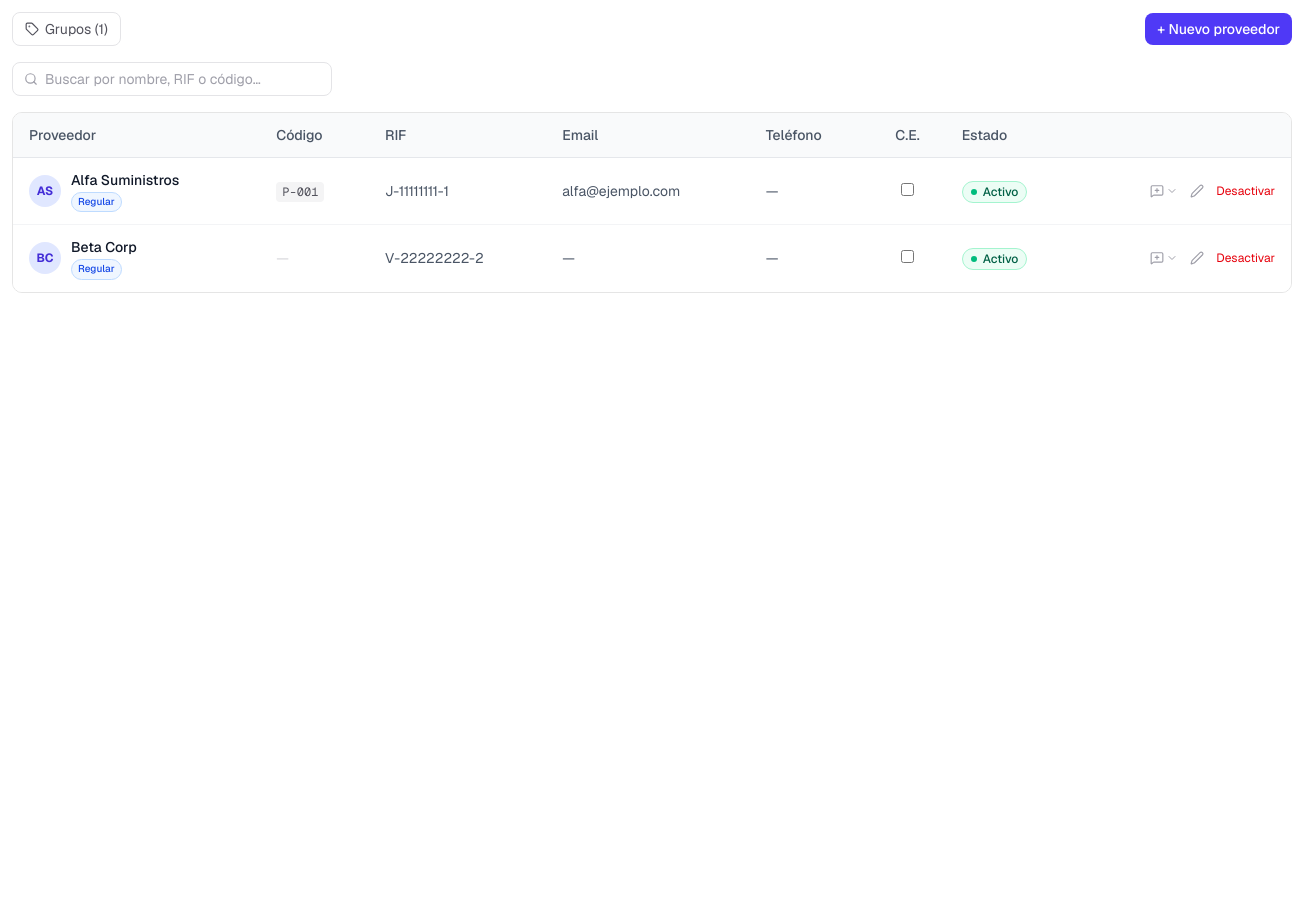
Test: VendorList — smoke del refactor RHF (P2) › abre el form de crear al hacer click en '+ Nuevo proveedor' y muestra los campos
This screenshot has width=1304, height=912.
Expected: the field with placeholder "Nombre *" is not shown
Step 1. Click the button "+ Nuevo proveedor" → click(1219, 29), box x1=1145 y1=13 x2=1292 y2=45
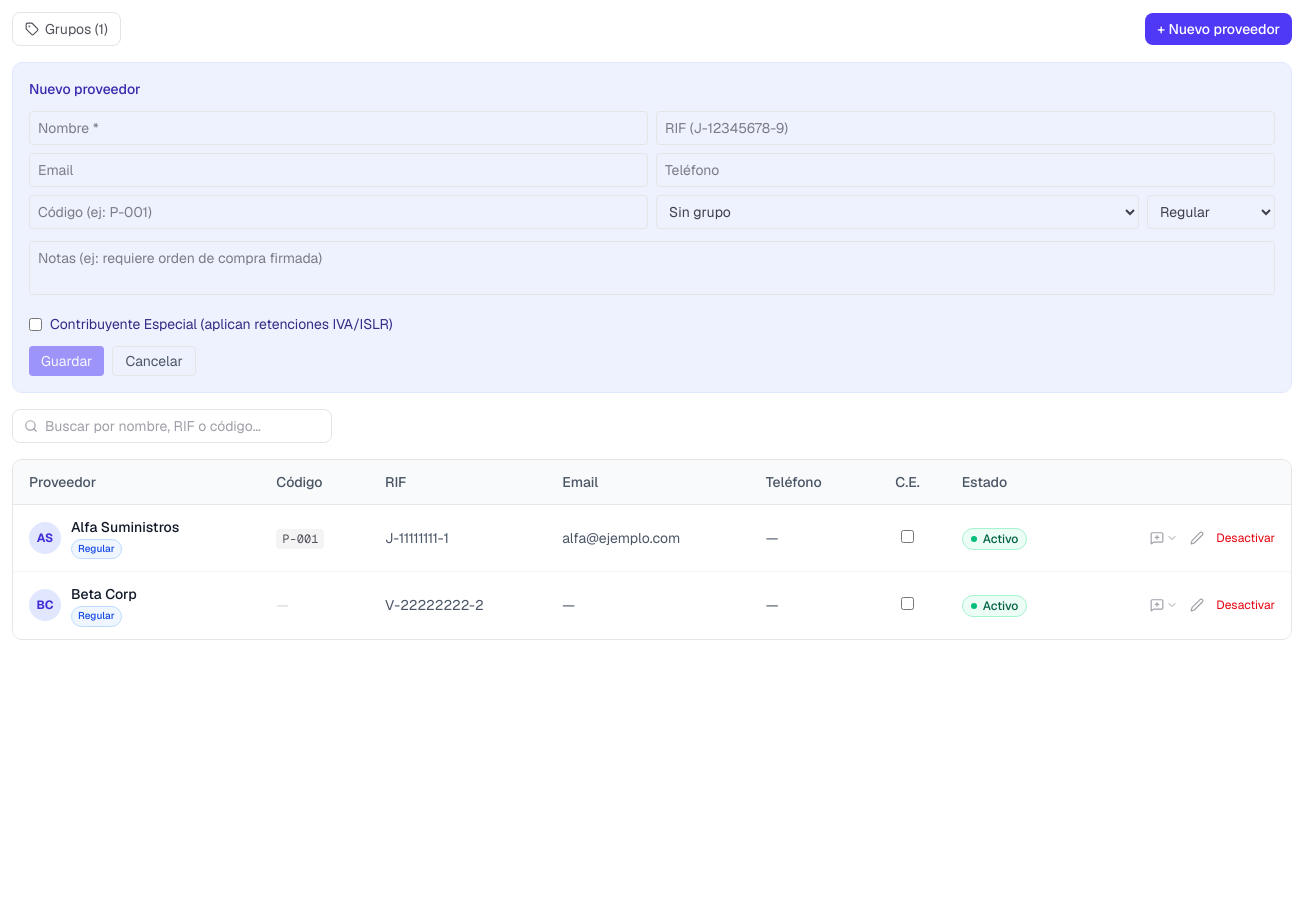
Result: the text "Nuevo proveedor" is shown at x1=29 y1=80 x2=140 y2=98
Result: the field with placeholder "Nombre *" is shown at x1=29 y1=111 x2=648 y2=145
Result: the field with placeholder "RIF (J-12345678-9)" is shown at x1=656 y1=111 x2=1275 y2=145
